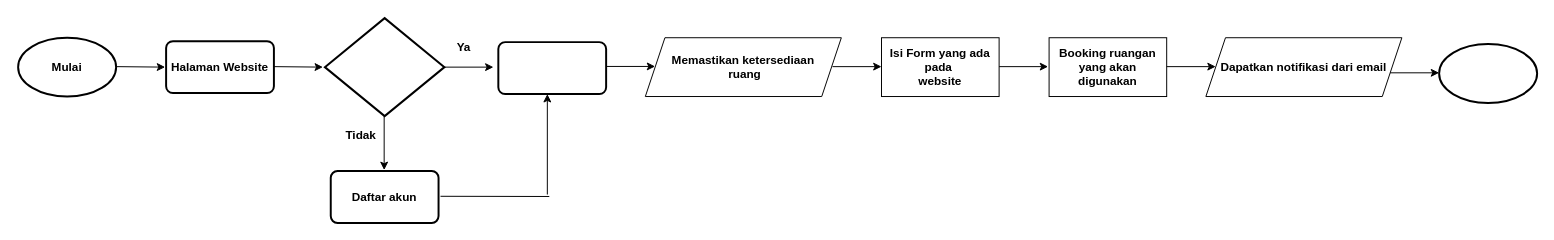
Some shapes in this 1554 by 240 pixel diagram are drawn without their labels. The shapes that lost their labels are listed below. From the top down, each one's centre as x and y in pixels, then its label:
the point at 384,67: Sudah memiliki akun?
the point at 552,68: Login
the point at 1488,73: Selesai
